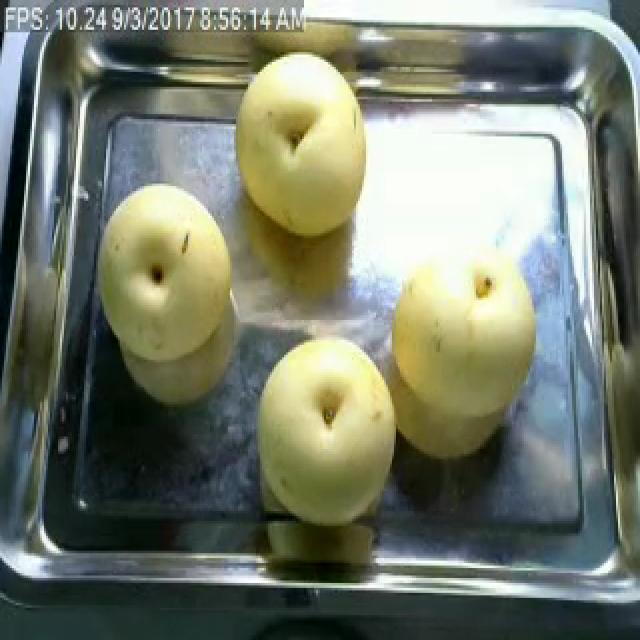Fruit: (84, 171, 254, 414), (238, 325, 408, 536), (386, 243, 546, 466), (222, 42, 384, 251)
